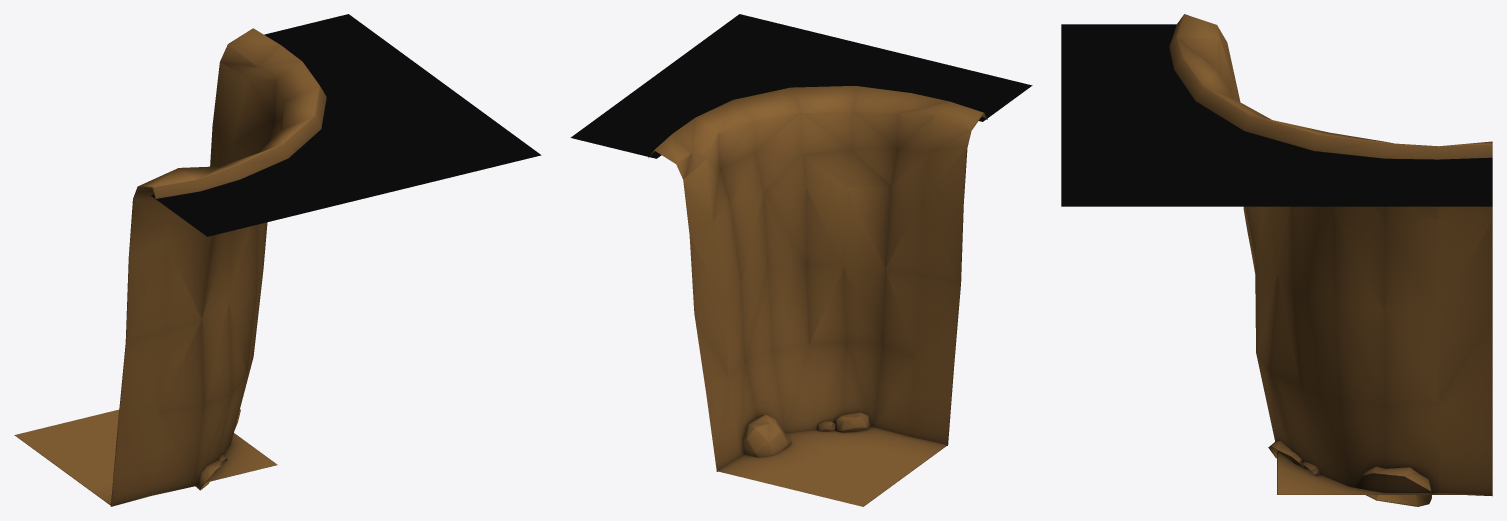
The model's file is Concave.FBX.
3 renders of one model, left to right at view 1: azimuth 30°, elevation 25°; view 2: azimuth 150°, elevation 25°; view 3: azimuth 270°, elevation 25°, orthographic. The views are drawn at different scales.
Visible parts, largest first — view 1: Object037; view 2: Object037; view 3: Object037.
Part boxes in pixels (left/top/right/bottom): Object037: left=14, top=14, right=541, bottom=506; Object037: left=570, top=14, right=1032, bottom=506; Object037: left=1061, top=14, right=1492, bottom=506.
Bounding box in the file's own units: 118 × 126 × 118.
